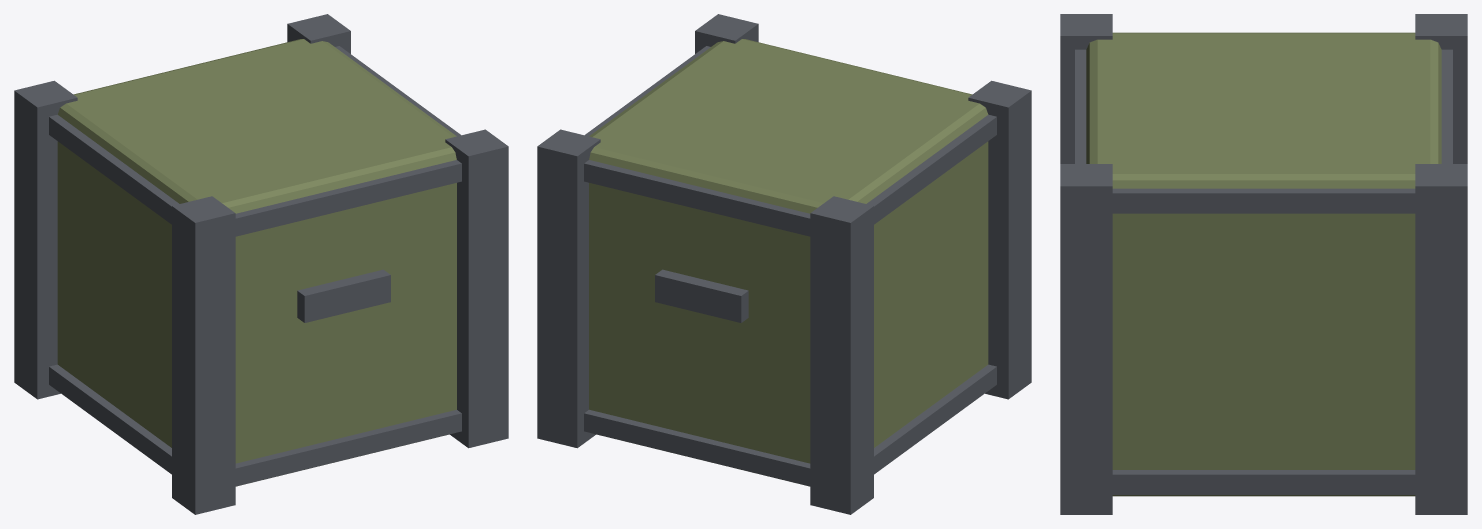
The model's file is crate.glb.
The picture shows the model from 3 angles, left to right: view 1: azimuth 30°, elevation 25°; view 2: azimuth 150°, elevation 25°; view 3: azimuth 270°, elevation 25°; orthographic projection. The views are drawn at different scales.
Visible parts, largest first — view 1: crate; view 2: crate; view 3: crate.
Part boxes in pixels (x1,y1,x2,y2): crate: (14, 14, 508, 514); crate: (537, 14, 1031, 514); crate: (1060, 14, 1467, 514).
Bounding box in the file's own units: 1.09 × 0.97 × 1.09.
